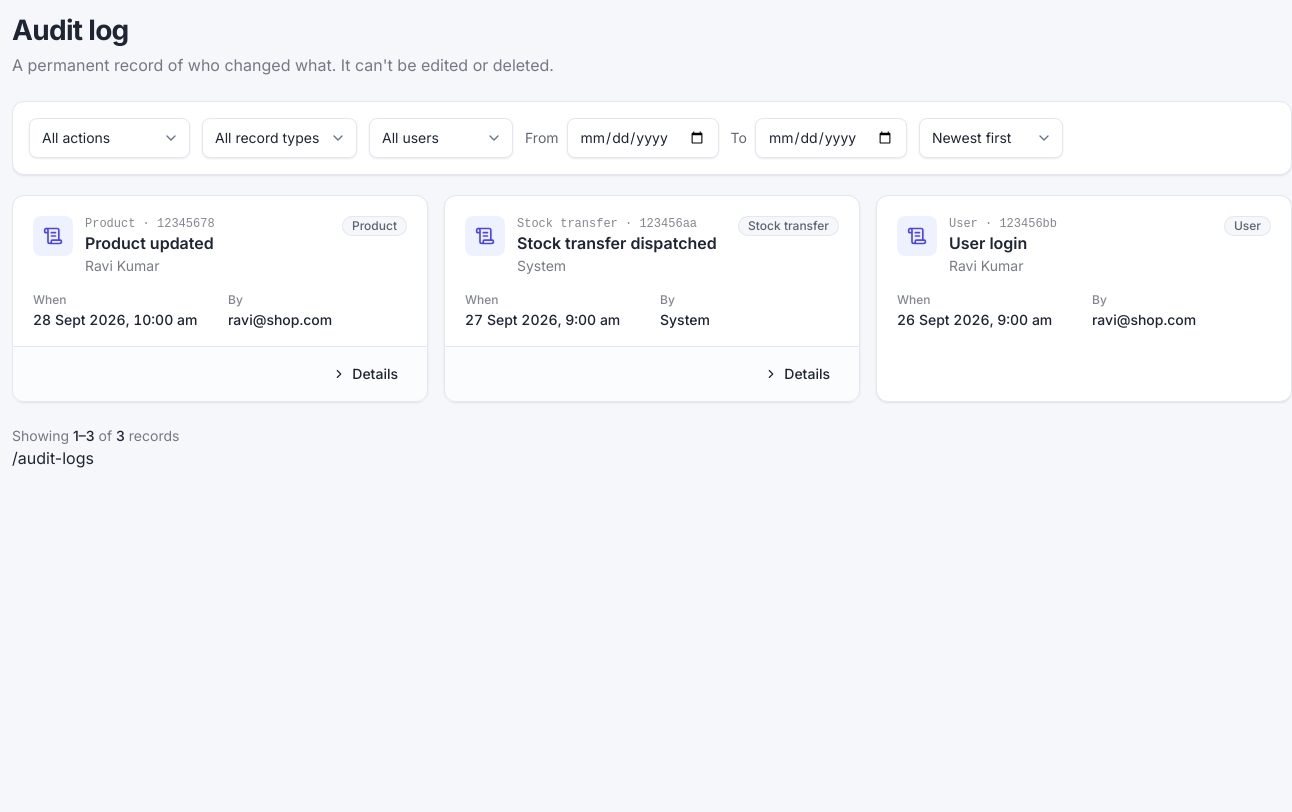
Scenario: AuditLogPage › details show each changed field before and after
What coordinates should you click on to do the following:
click the button with aria-label "Show details: Product updated"
I would click on:
 (365, 374)
Its box is x1=319 y1=357 x2=411 y2=391.
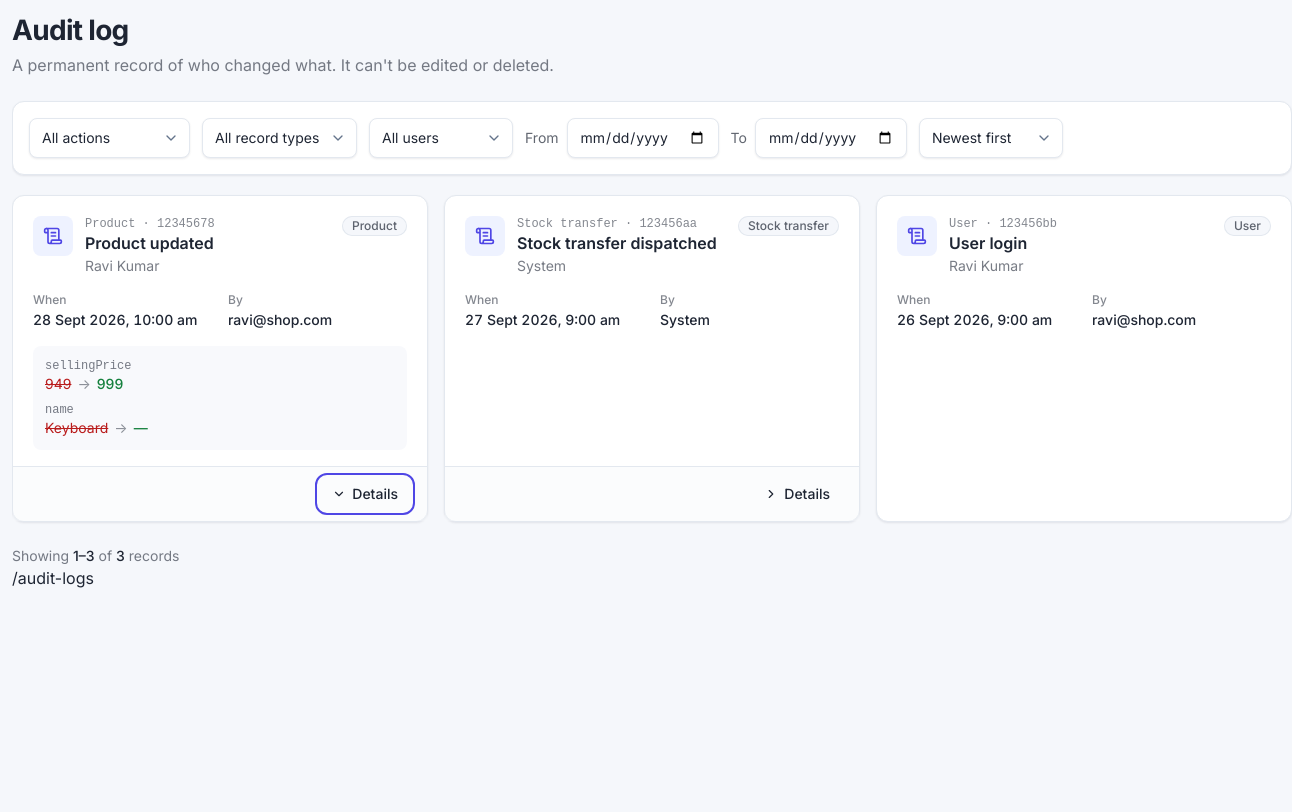
What coordinates should you click on to do the following:
click the button with aria-label "Hide details: Product updated"
I would click on:
 (365, 494)
Its box is x1=319 y1=477 x2=411 y2=511.
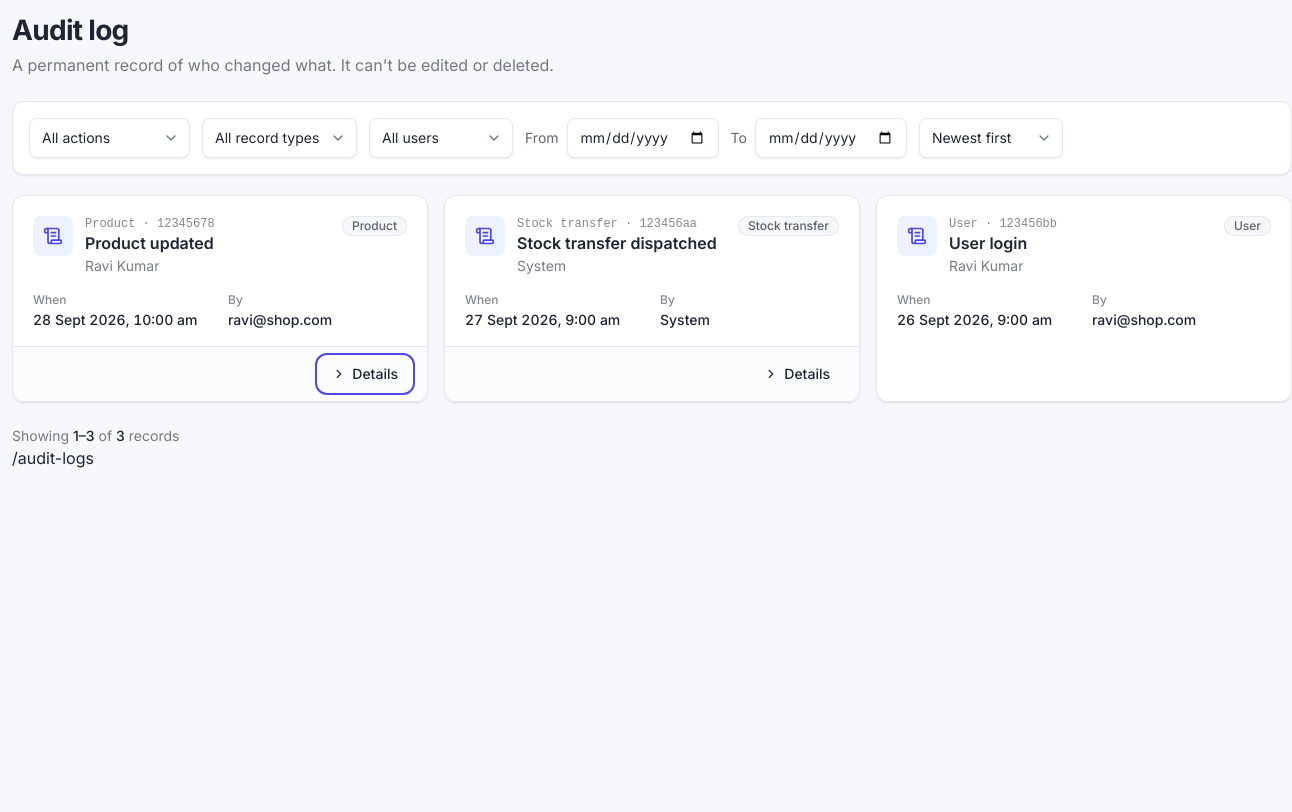
Expected: the text "sellingPrice" is gone
